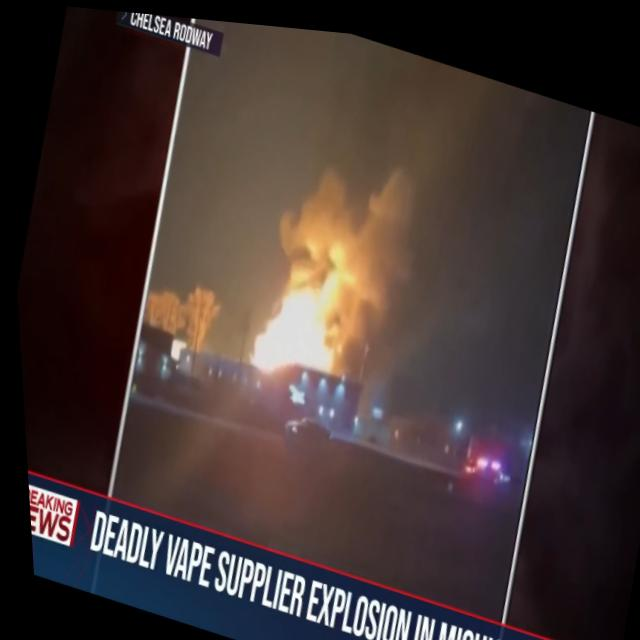Fire: (231, 125, 424, 434)
